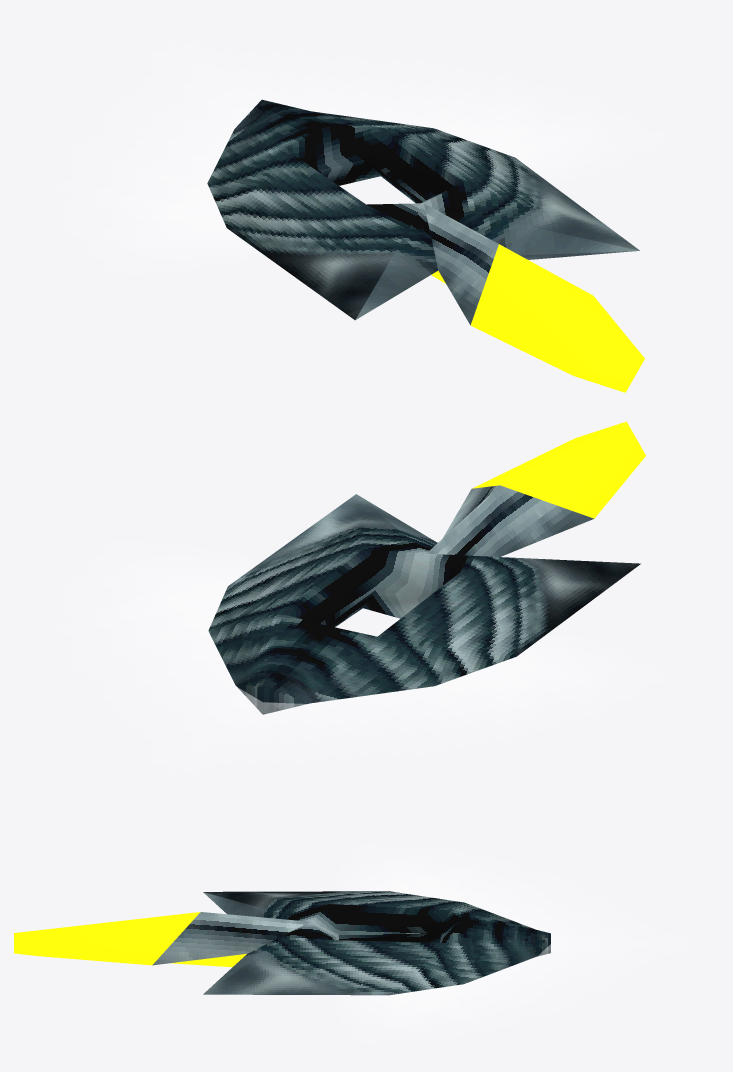
The model's file is sstaos_3db.gltf.
3 views of the same model, one above another, from view 1: azimuth 30°, elevation 25°; view 2: azimuth 150°, elevation 25°; view 3: azimuth 270°, elevation 25° (orthographic). The views are drawn at different scales.
Parts seen in each view (by area): view 1: sstaos.3db; view 2: sstaos.3db; view 3: sstaos.3db.
Boxes of the visible parts, x1,y1,x2,y2 form: sstaos.3db: (91, 58, 644, 392); sstaos.3db: (90, 421, 645, 757); sstaos.3db: (14, 856, 661, 1031).
Bounding box in the file's own units: 11.04 × 1.37 × 14.47.
Materials: 4 (4 with a texture image).
